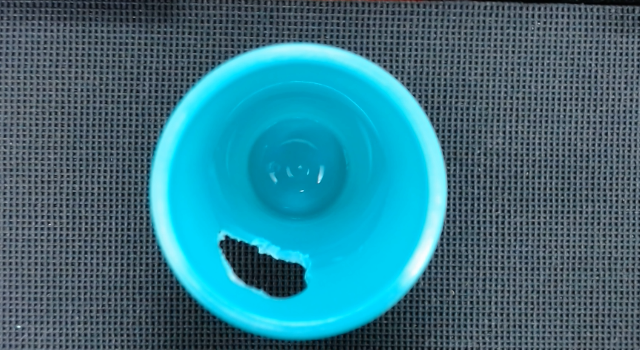hole: (219, 231, 309, 298)
